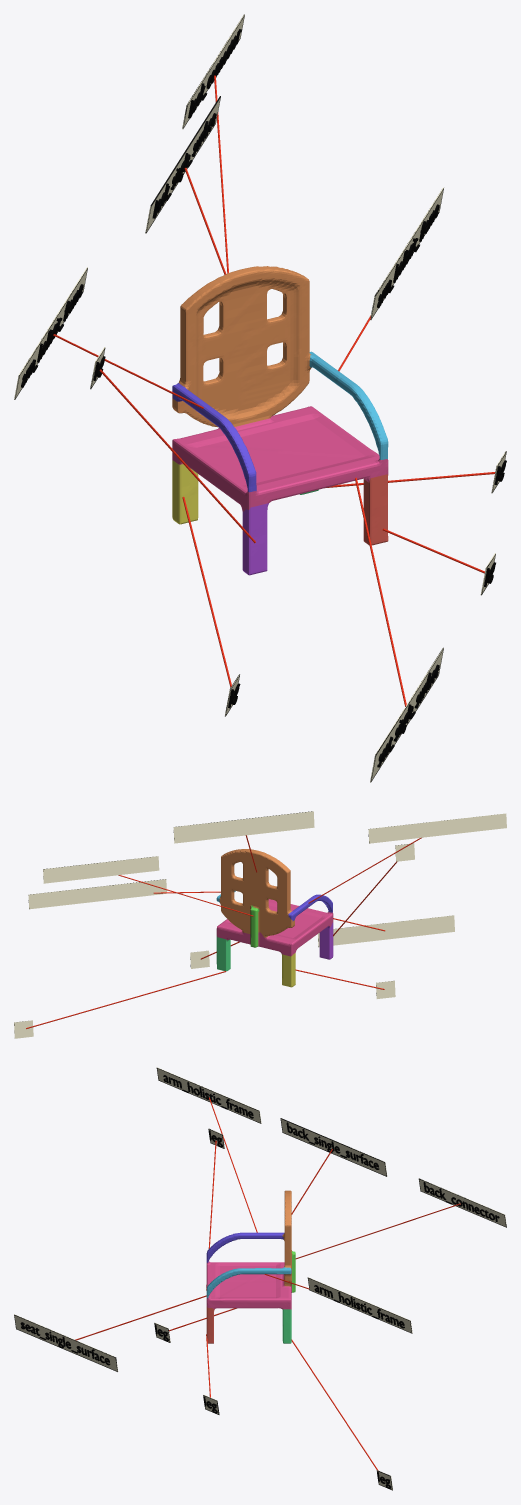
The model's file is 38844-down-O.obj.
3 views of the same model, one above another, from view 1: azimuth 30°, elevation 25°; view 2: azimuth 150°, elevation 25°; view 3: azimuth 270°, elevation 25° (orthographic). The views are drawn at different scales.
Parts seen in each view (by area): view 1: 38844-P, label_back_single_surface_3_17, label_seat_single_surface_11_12, label_arm_holistic_frame_6_14, label_arm_holistic_frame_8_13, label_back_connector_4_16; view 2: 38844-P, label_back_single_surface_3_17, label_arm_holistic_frame_8_13, label_arm_holistic_frame_6_14, label_seat_single_surface_11_12, label_back_connector_4_16, leader_leg_15_8, label_leg_15_8, label_leg_16_9, label_leg_14_7, label_leg_17_10; view 3: 38844-P, label_back_single_surface_3_17, label_seat_single_surface_11_12, label_arm_holistic_frame_6_14, label_arm_holistic_frame_8_13, label_back_connector_4_16.
Boxes of the visible parts, bbox=[...] form: 38844-P: bbox=[172, 266, 388, 575]; label_back_single_surface_3_17: bbox=[145, 96, 220, 233]; label_seat_single_surface_11_12: bbox=[370, 647, 443, 782]; label_arm_holistic_frame_6_14: bbox=[370, 187, 443, 320]; label_arm_holistic_frame_8_13: bbox=[14, 267, 87, 399]; label_back_connector_4_16: bbox=[182, 14, 244, 129]; 38844-P: bbox=[216, 849, 333, 987]; label_back_single_surface_3_17: bbox=[173, 811, 314, 843]; label_arm_holistic_frame_8_13: bbox=[368, 813, 506, 843]; label_arm_holistic_frame_6_14: bbox=[28, 879, 166, 909]; label_seat_single_surface_11_12: bbox=[318, 915, 454, 947]; label_back_connector_4_16: bbox=[43, 856, 159, 883]; leader_leg_15_8: bbox=[26, 971, 225, 1028]; label_leg_15_8: bbox=[14, 1020, 33, 1038]; label_leg_16_9: bbox=[190, 950, 209, 968]; label_leg_14_7: bbox=[376, 980, 395, 998]; label_leg_17_10: bbox=[395, 843, 414, 861]; 38844-P: bbox=[206, 1190, 295, 1343]; label_back_single_surface_3_17: bbox=[280, 1118, 387, 1176]; label_seat_single_surface_11_12: bbox=[14, 1314, 118, 1371]; label_arm_holistic_frame_6_14: bbox=[307, 1277, 412, 1333]; label_arm_holistic_frame_8_13: bbox=[156, 1067, 261, 1123]; label_back_connector_4_16: bbox=[418, 1178, 506, 1227].
Size of the model in its own units: 4.74 by 2.94 by 5.23.
